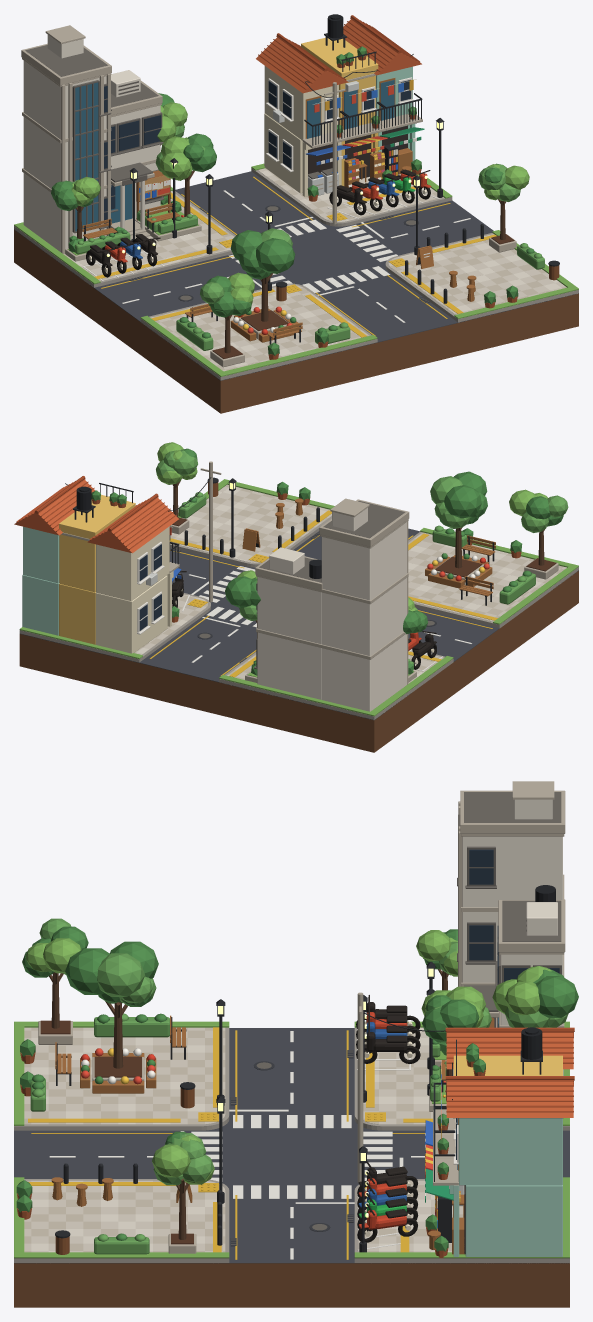
File: lokasi4.glb
3 renders of one model, top to bottom at view 1: azimuth 30°, elevation 25°; view 2: azimuth 150°, elevation 25°; view 3: azimuth 270°, elevation 25°, orthographic. The views are drawn at different scales.
Visible parts, largest first — view 1: Lokasi4; view 2: Lokasi4; view 3: Lokasi4.
Part boxes in pixels (bbox=[...]): Lokasi4: bbox=[14, 14, 578, 413]; Lokasi4: bbox=[14, 442, 578, 752]; Lokasi4: bbox=[14, 781, 578, 1307].
Bounding box in the file's own units: 16.53 × 9.78 × 16.26.
